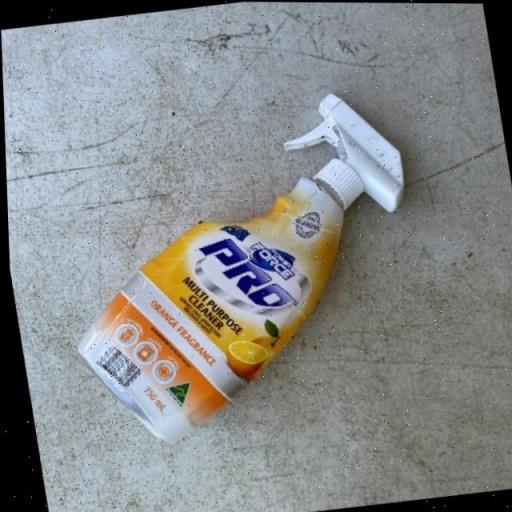plastic: (38, 82, 440, 454)
